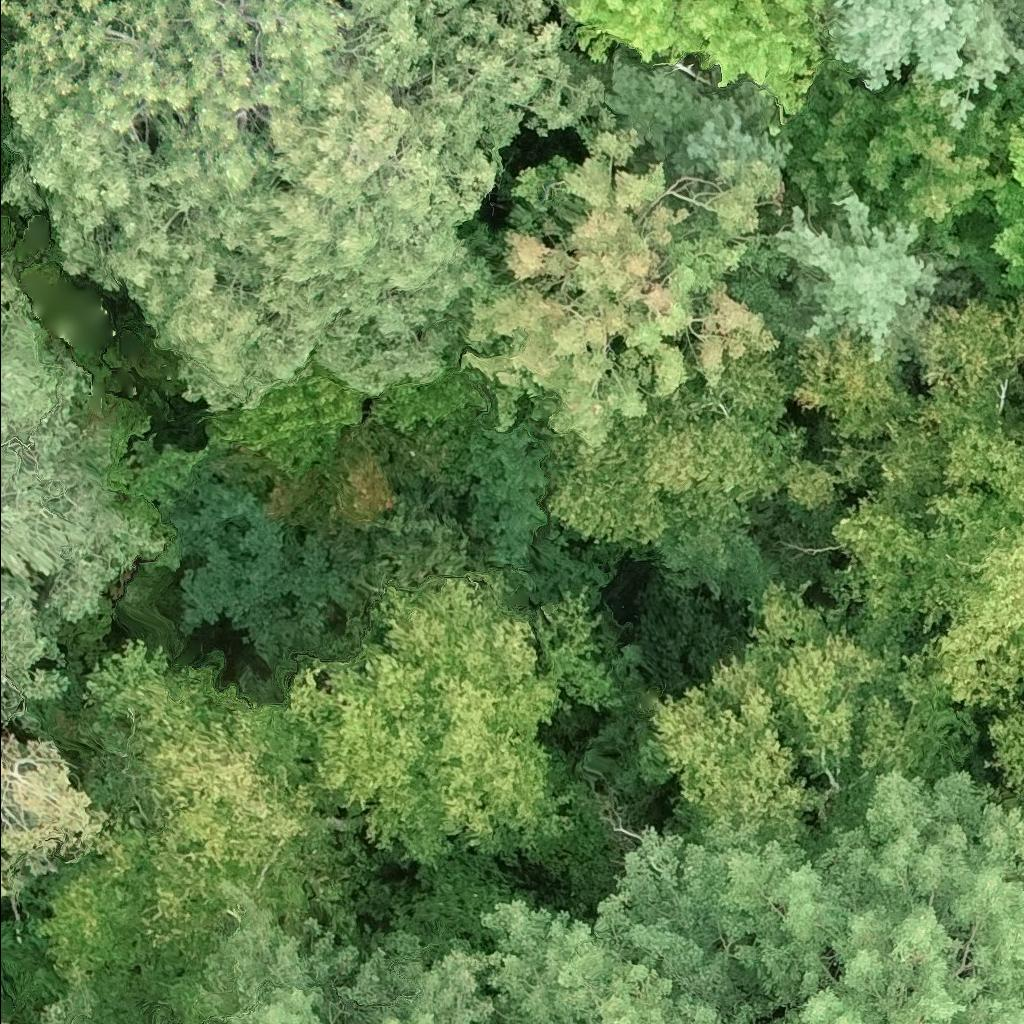crown: (0, 0, 603, 413), (462, 121, 782, 444), (40, 641, 331, 980), (799, 294, 1023, 716), (288, 576, 613, 866), (686, 765, 1023, 1023), (0, 258, 163, 725), (552, 343, 836, 541), (762, 55, 1023, 259), (184, 882, 496, 1023), (774, 168, 969, 370), (591, 824, 784, 1023), (745, 564, 919, 772), (653, 653, 829, 840), (474, 901, 721, 1023), (570, 0, 823, 117), (830, 0, 1023, 130), (600, 50, 791, 176), (841, 646, 974, 780), (0, 736, 96, 899), (980, 116, 1023, 291), (985, 702, 1023, 810), (32, 1004, 107, 1023), (673, 57, 709, 84)
